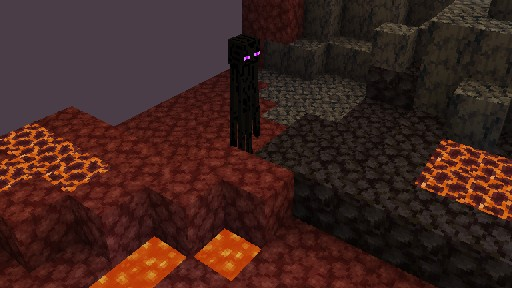enderman: (227, 33, 260, 166)
